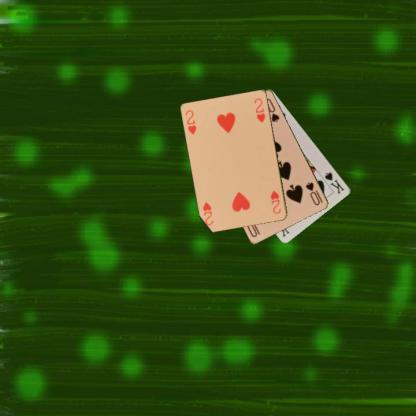10s: (303, 179, 324, 207)
2h: (183, 107, 198, 136), (268, 188, 282, 215)
Ks: (322, 170, 346, 196)
